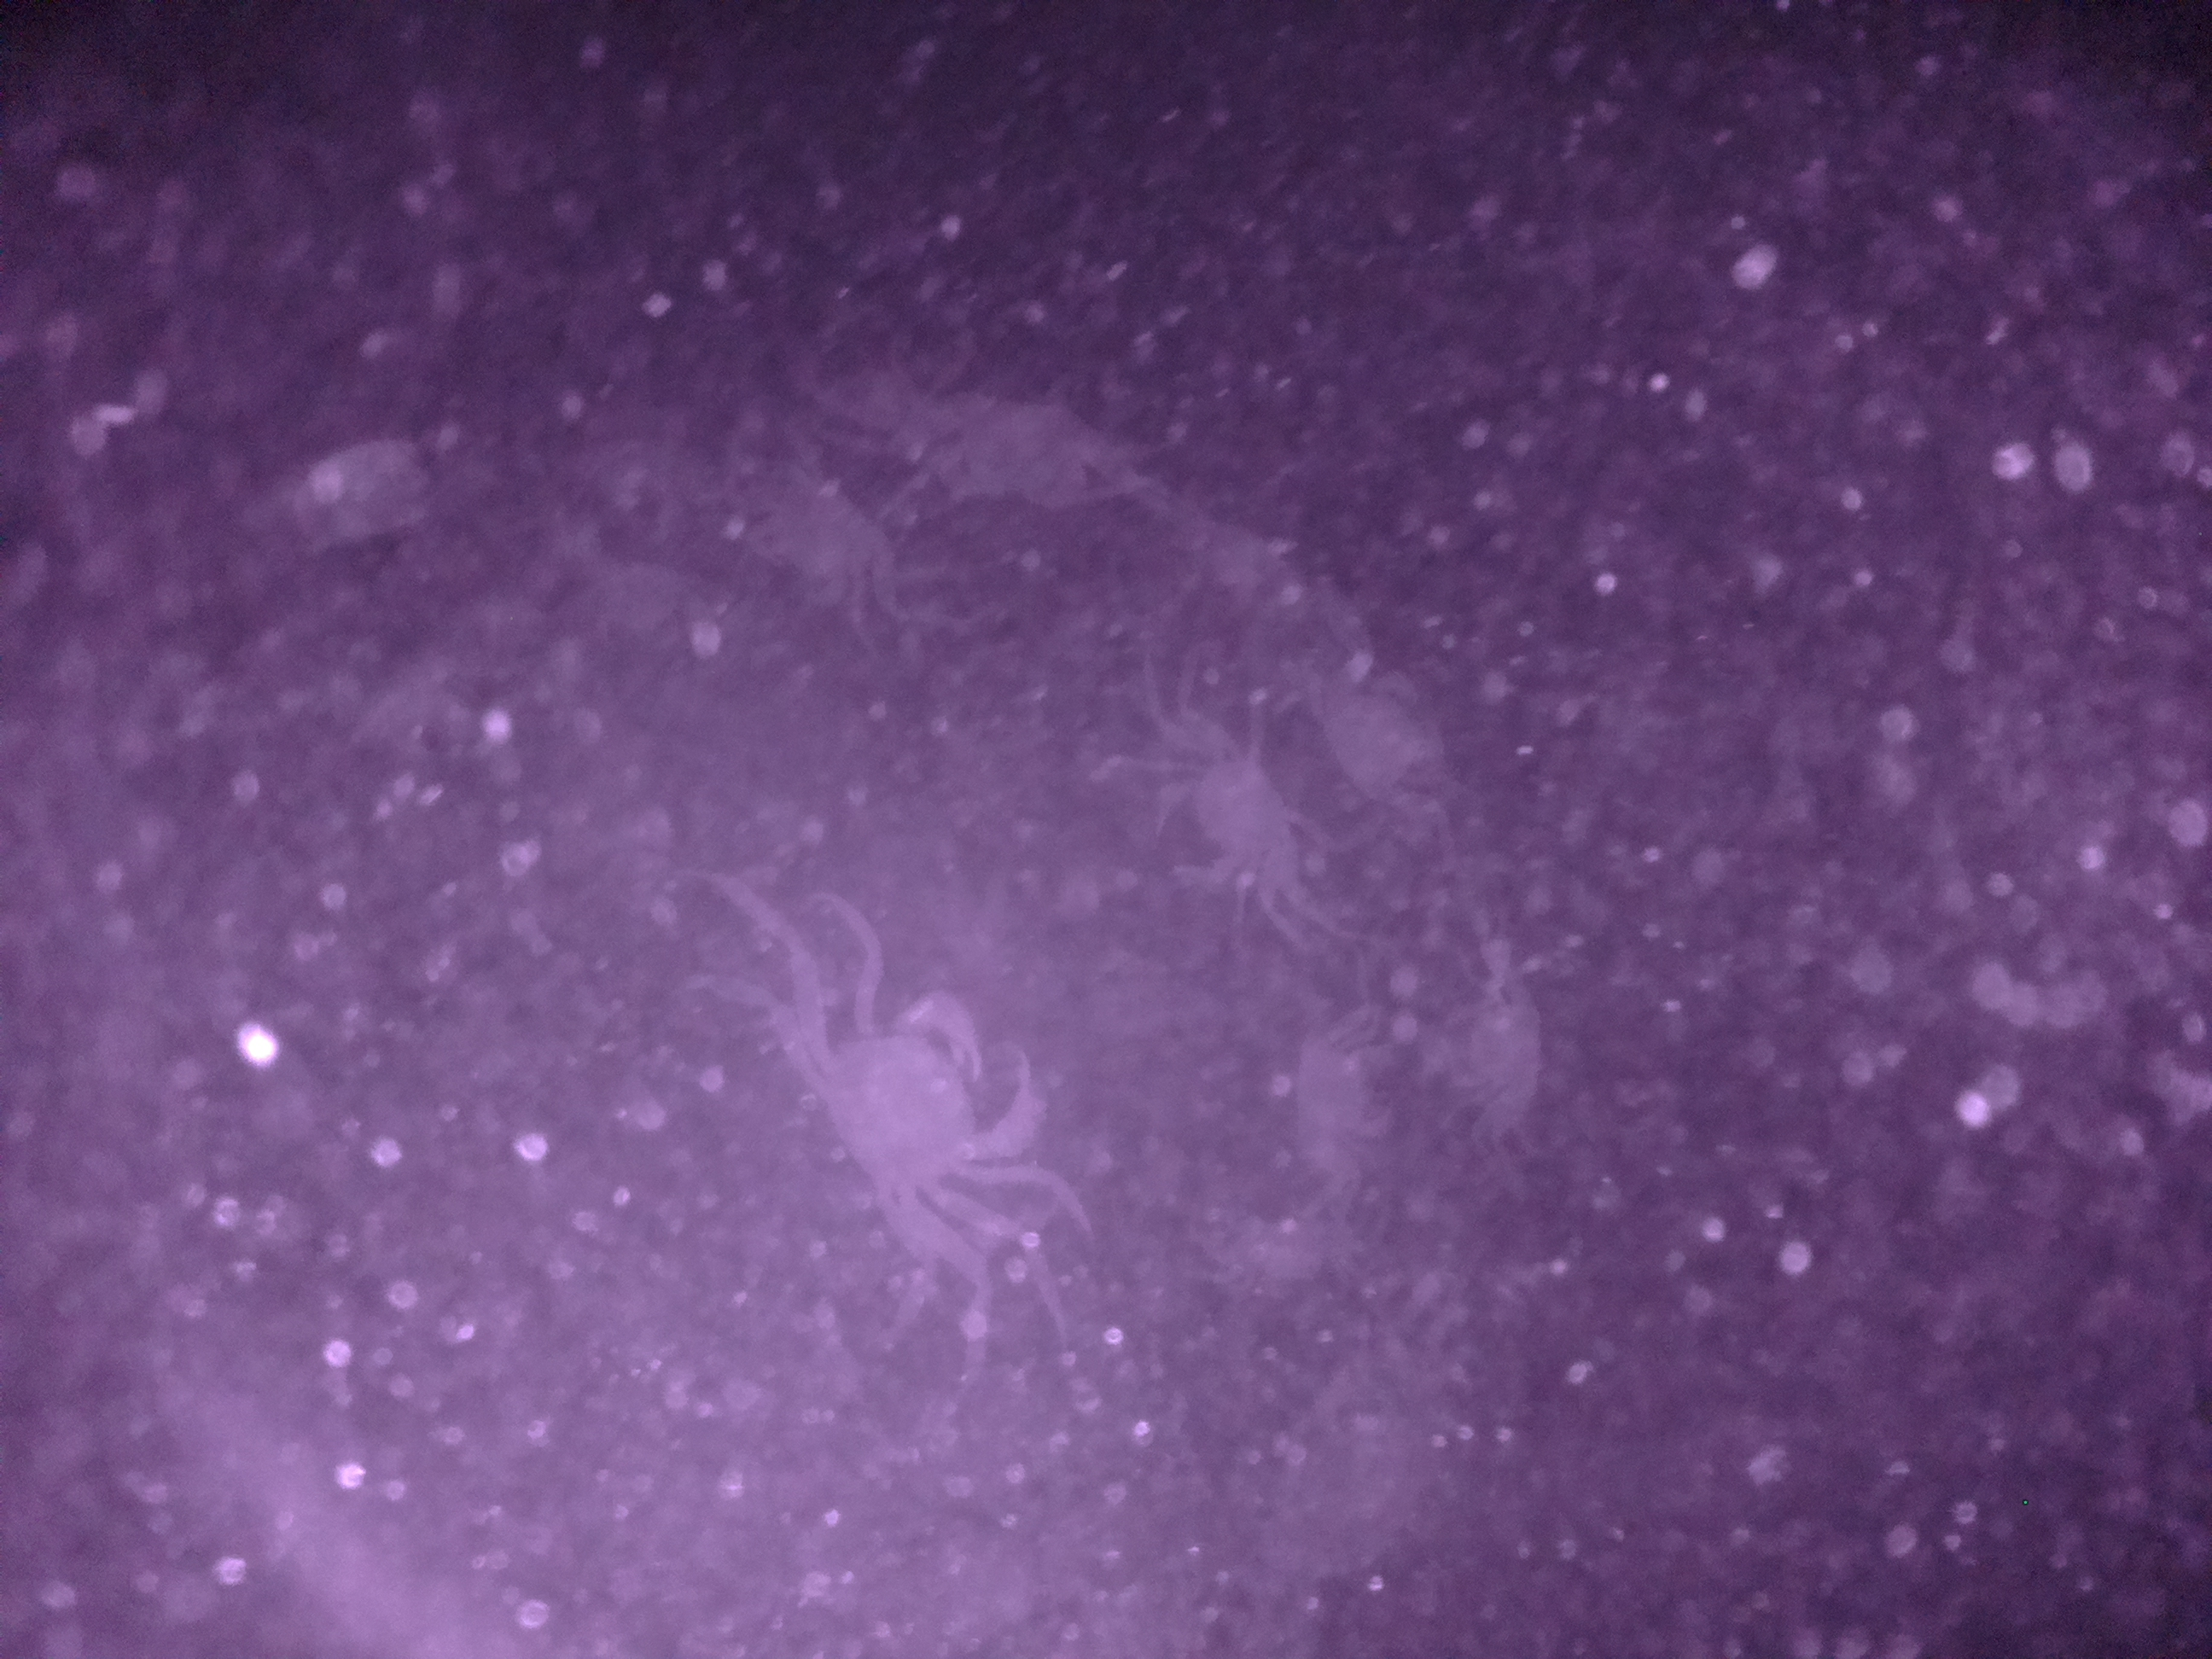Crab: (787, 983, 1066, 1255), (1143, 718, 1315, 922), (1287, 1004, 1406, 1211)
